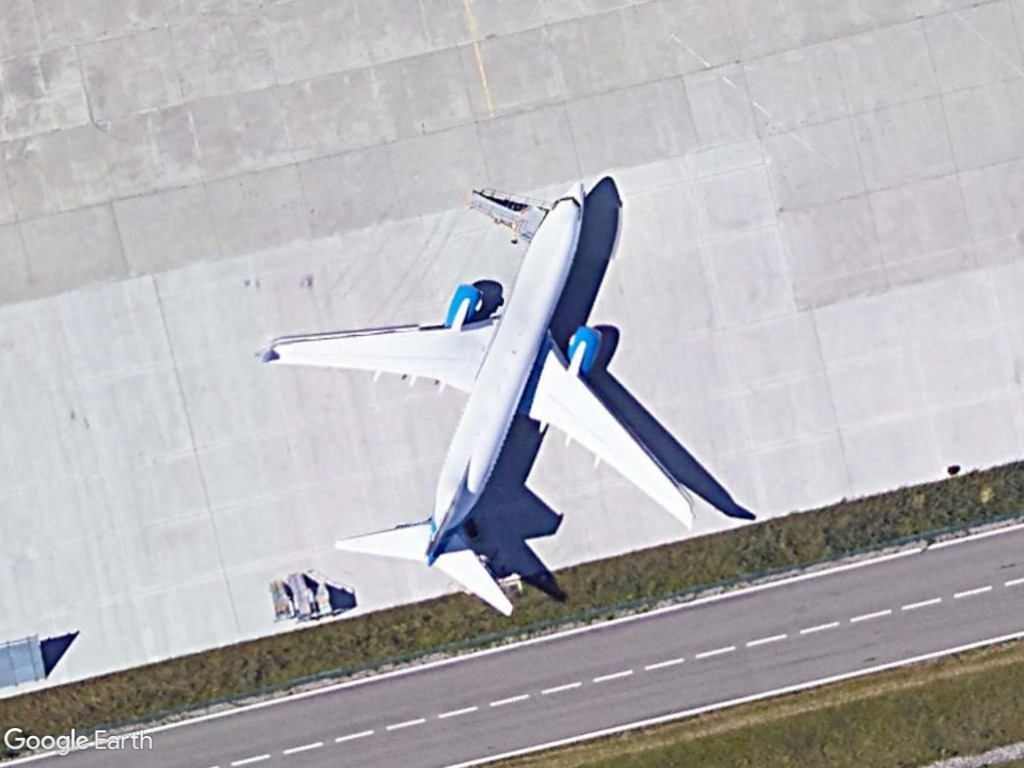airliner: (255, 173, 700, 626)
stairtruck: (464, 187, 546, 242)
